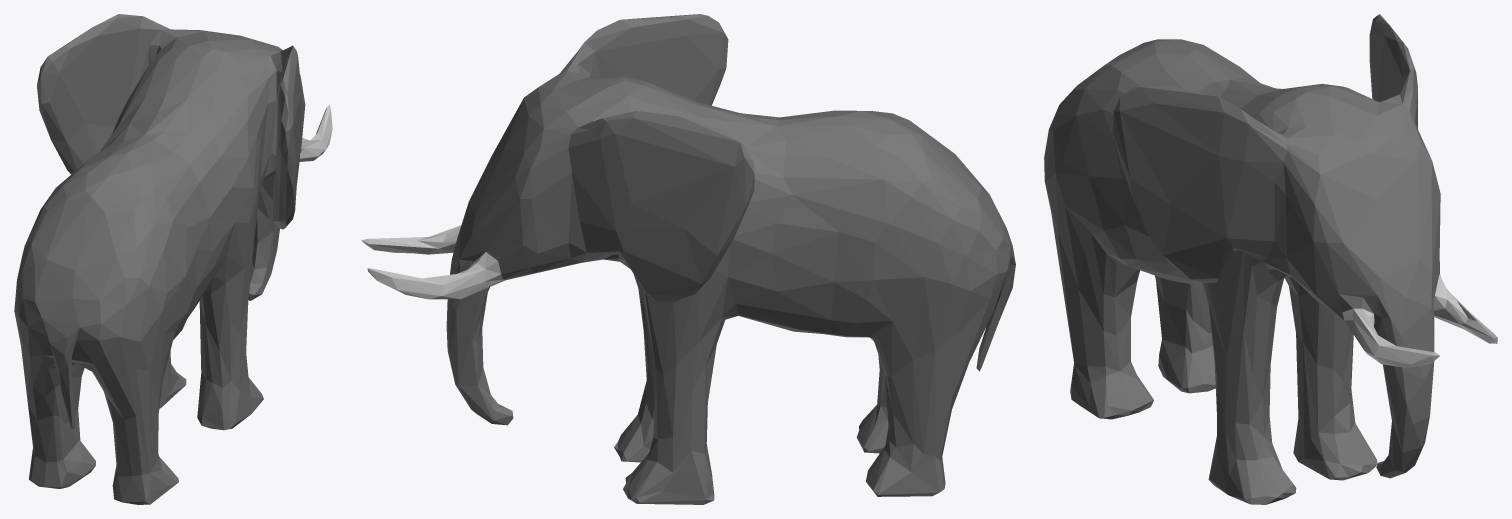
The model's file is elephant.glb.
3 views of the same model, side by side, from view 1: azimuth 30°, elevation 25°; view 2: azimuth 150°, elevation 25°; view 3: azimuth 270°, elevation 25° (orthographic). The views are drawn at different scales.
Parts seen in each view (by area): view 1: Plane.003_0; view 2: Plane.003_0; view 3: Plane.003_0.
Boxes of the visible parts, box(x1,y1,x2,y2) form: Plane.003_0: box(14, 14, 332, 504); Plane.003_0: box(361, 14, 1015, 504); Plane.003_0: box(1044, 14, 1497, 504).
Size of the model in its own units: 25.67 by 20.51 by 19.84.
1 material, 1 textured.
